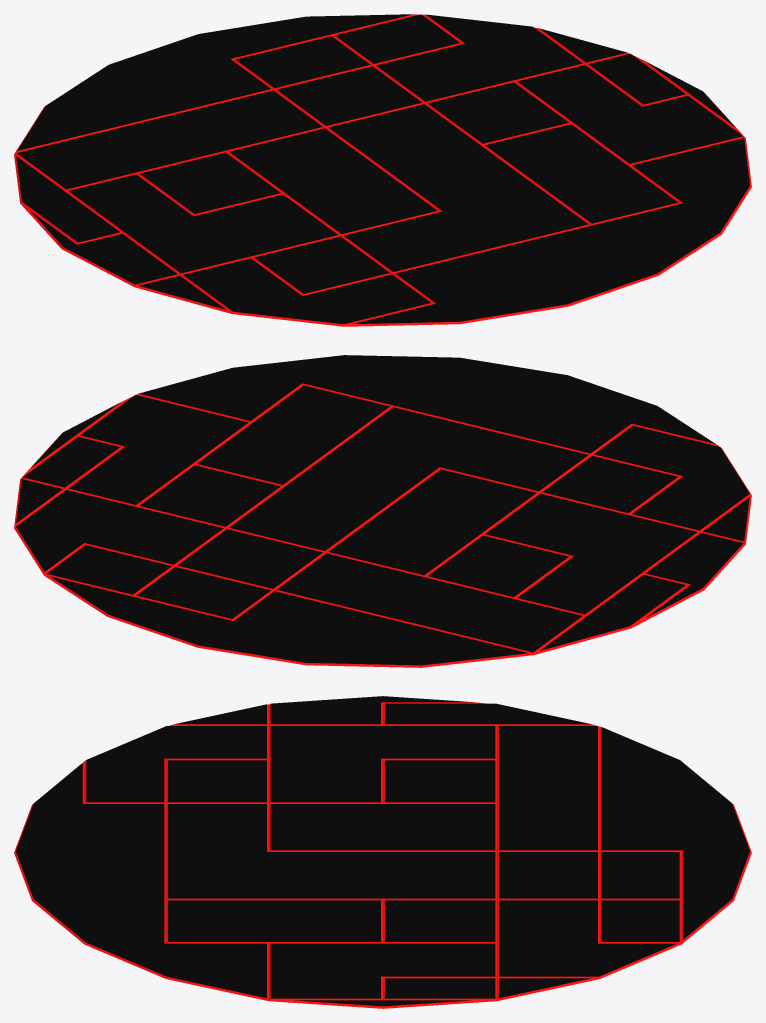
Rendered from b443bdcd-3f85-4757-9556-332ba7c93413.glb.
3 views of the same model, one above another, from view 1: azimuth 30°, elevation 25°; view 2: azimuth 150°, elevation 25°; view 3: azimuth 270°, elevation 25° (orthographic).
Visible parts, largest first — view 1: Cyberpunk Round Tile.003; view 2: Cyberpunk Round Tile.003; view 3: Cyberpunk Round Tile.003.
Part boxes in pixels (<box>): Cyberpunk Round Tile.003: <box>14,14,751,326</box>; Cyberpunk Round Tile.003: <box>14,355,751,667</box>; Cyberpunk Round Tile.003: <box>14,696,751,1008</box>.
Bounding box in the file's own units: 0.845 × 0.00211 × 0.845.
1 material, 1 textured.
